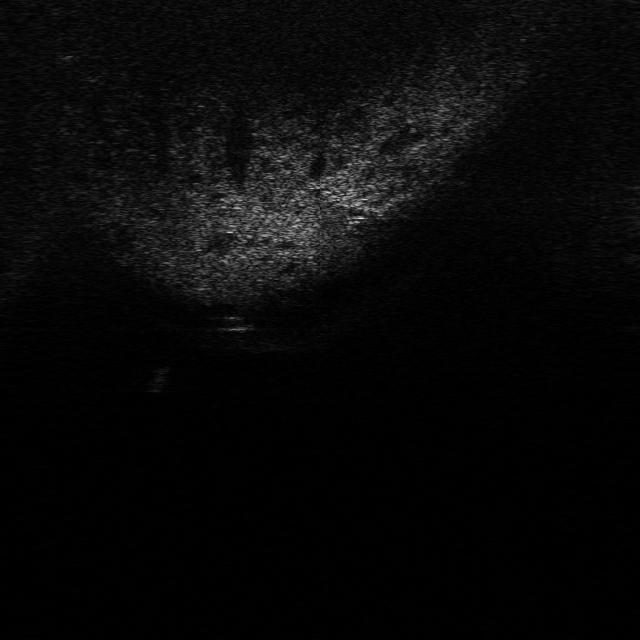cube: (213, 311, 254, 334)
cylinder: (143, 362, 169, 394)
